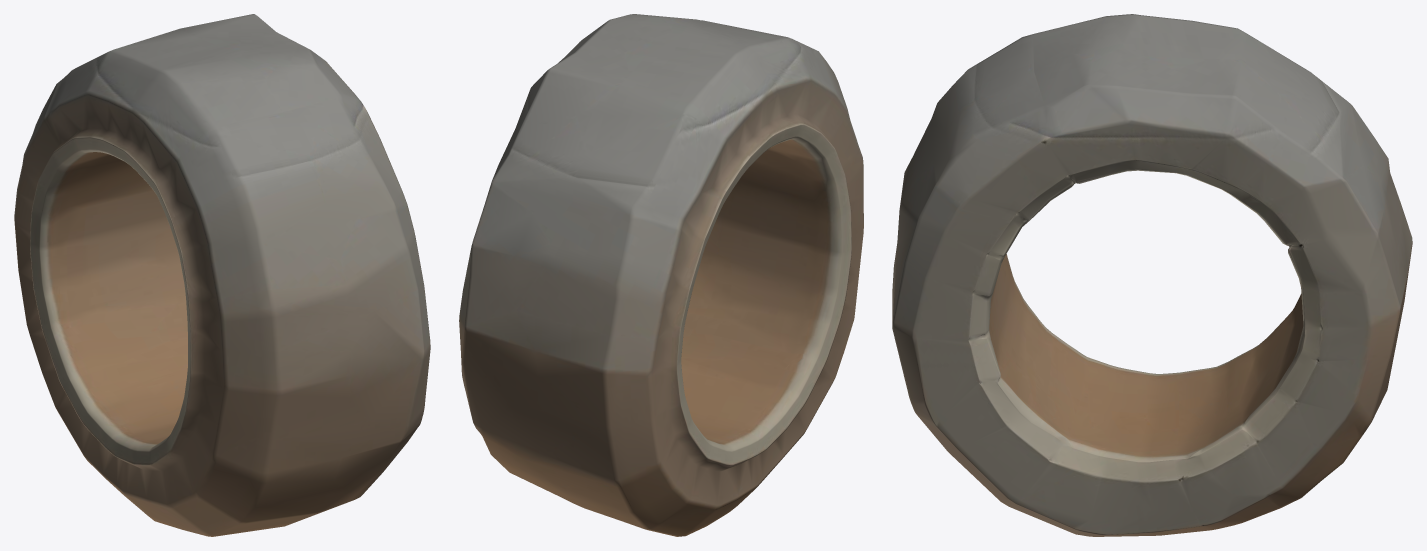
The model's file is q3d-53-ring.glb.
3 views of the same model, side by side, from view 1: azimuth 30°, elevation 25°; view 2: azimuth 150°, elevation 25°; view 3: azimuth 270°, elevation 25° (orthographic). The views are drawn at different scales.
Bounding box in the file's own units: 0.4868 × 0.9995 × 0.9995.
1 material, 1 textured.
